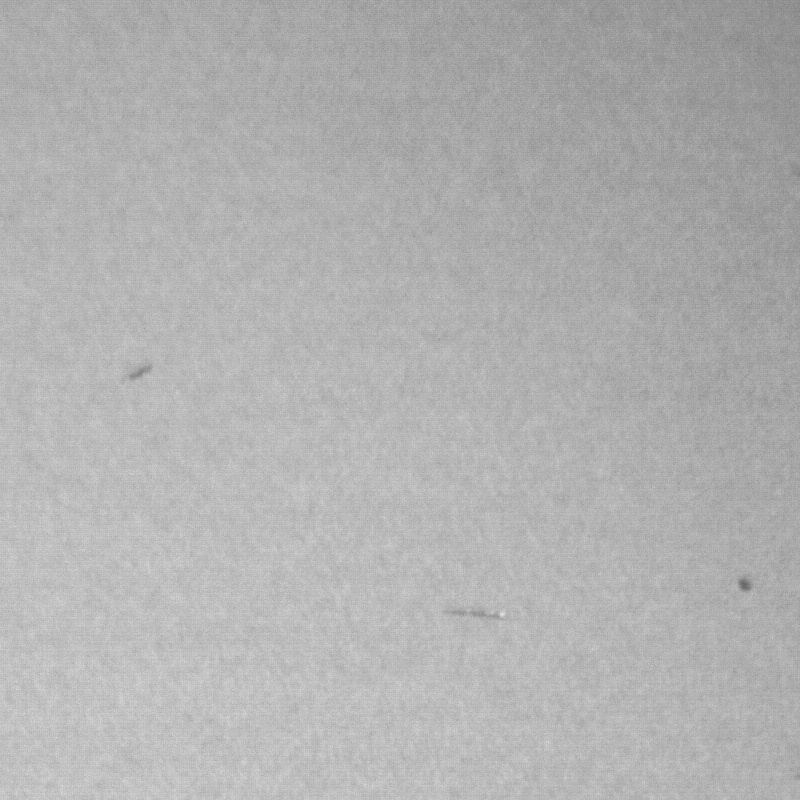defect: (447, 609, 511, 622), (124, 362, 149, 382), (736, 577, 755, 593)
